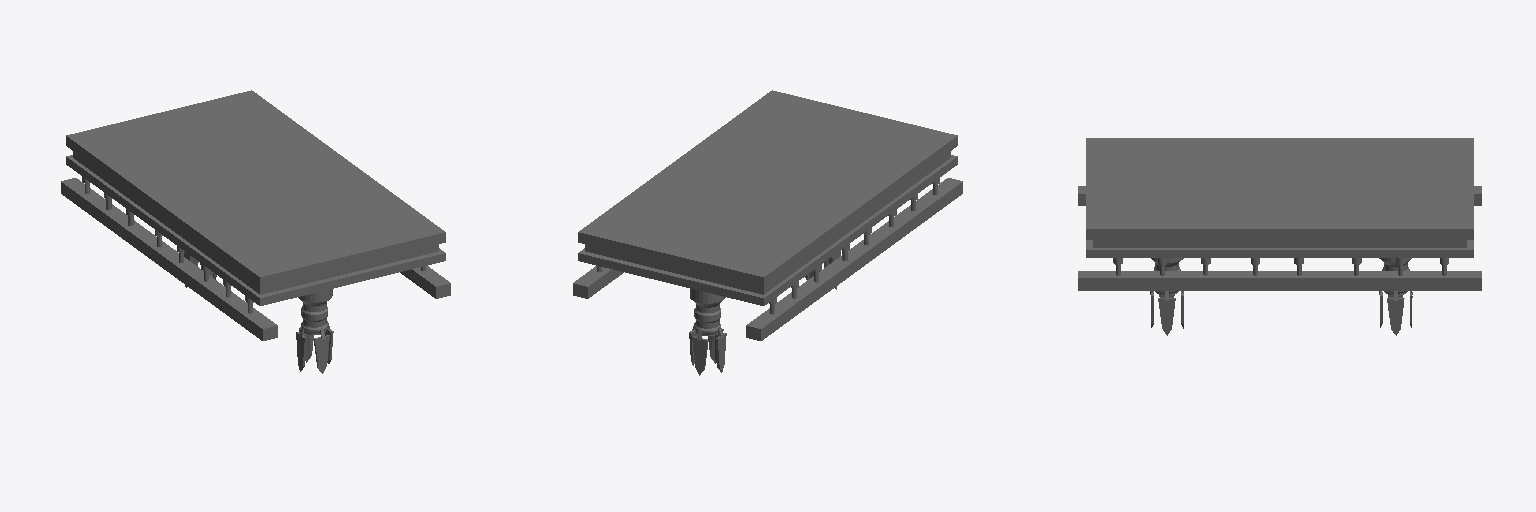
Rendered from Platform.obj.
3 views of the same model, side by side, from view 1: azimuth 30°, elevation 25°; view 2: azimuth 150°, elevation 25°; view 3: azimuth 270°, elevation 25° (orthographic).
Visible parts, largest first — view 1: Mesh; view 2: Mesh; view 3: Mesh.
Boxes of the visible parts, x1,y1,x2,y2 form: Mesh: [61, 90, 450, 373]; Mesh: [573, 90, 962, 375]; Mesh: [1078, 138, 1481, 335].
Bounding box in the file's own units: 4.2 × 3.07 × 7.8.